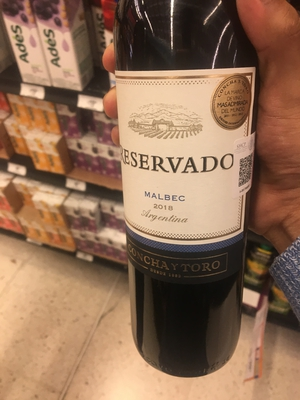reservado malbec: (104, 13, 267, 373)
